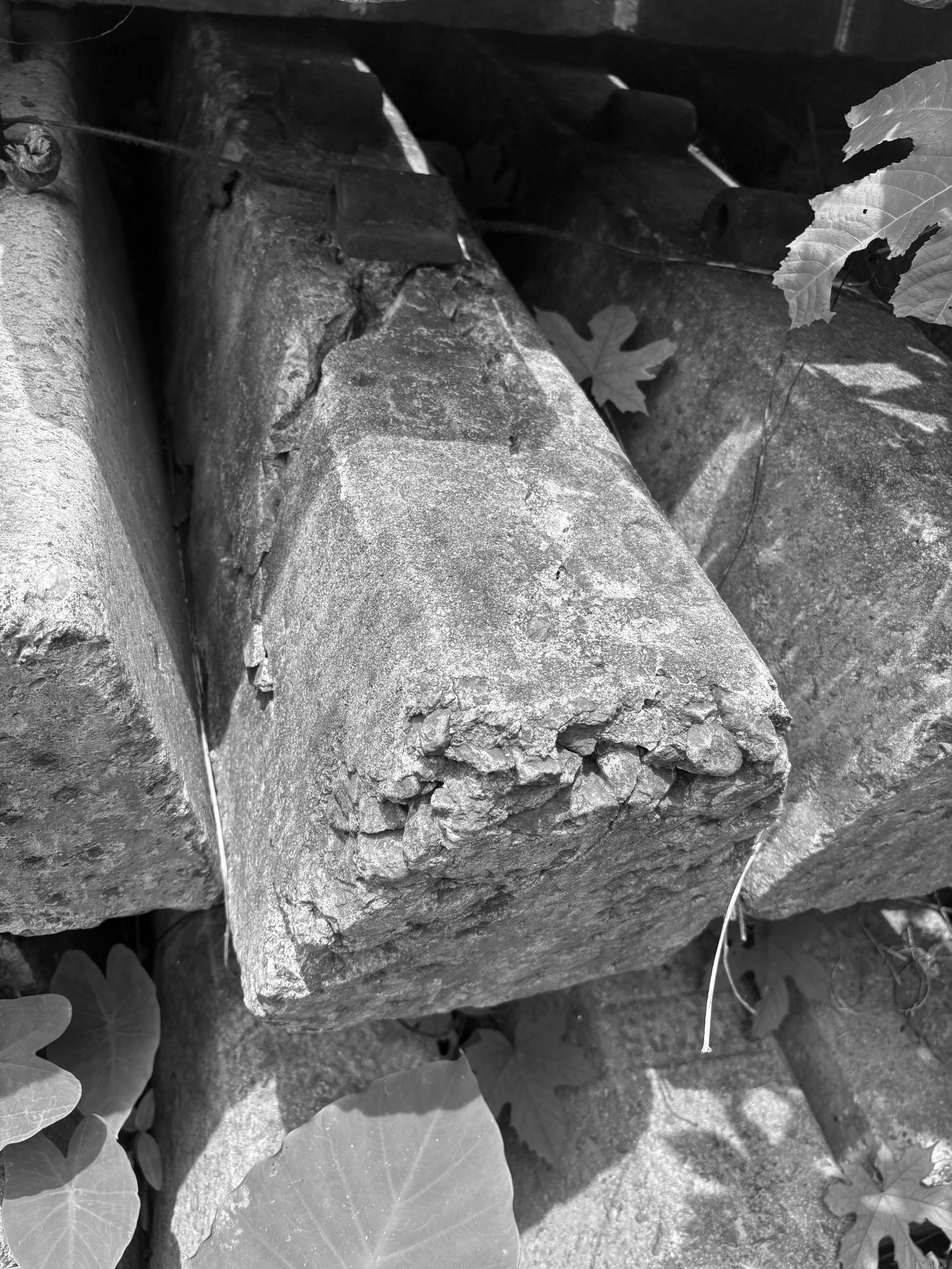cracks under rail seat: (140, 245, 434, 764), (425, 250, 615, 644)
